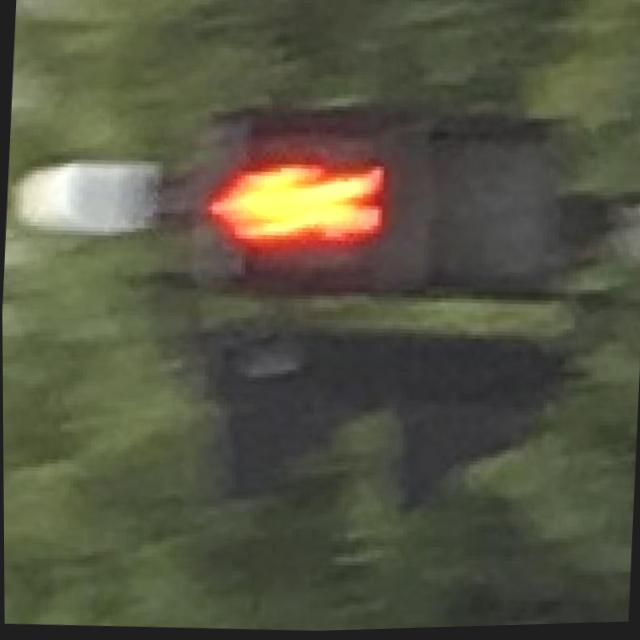red_light: (201, 135, 389, 271)
